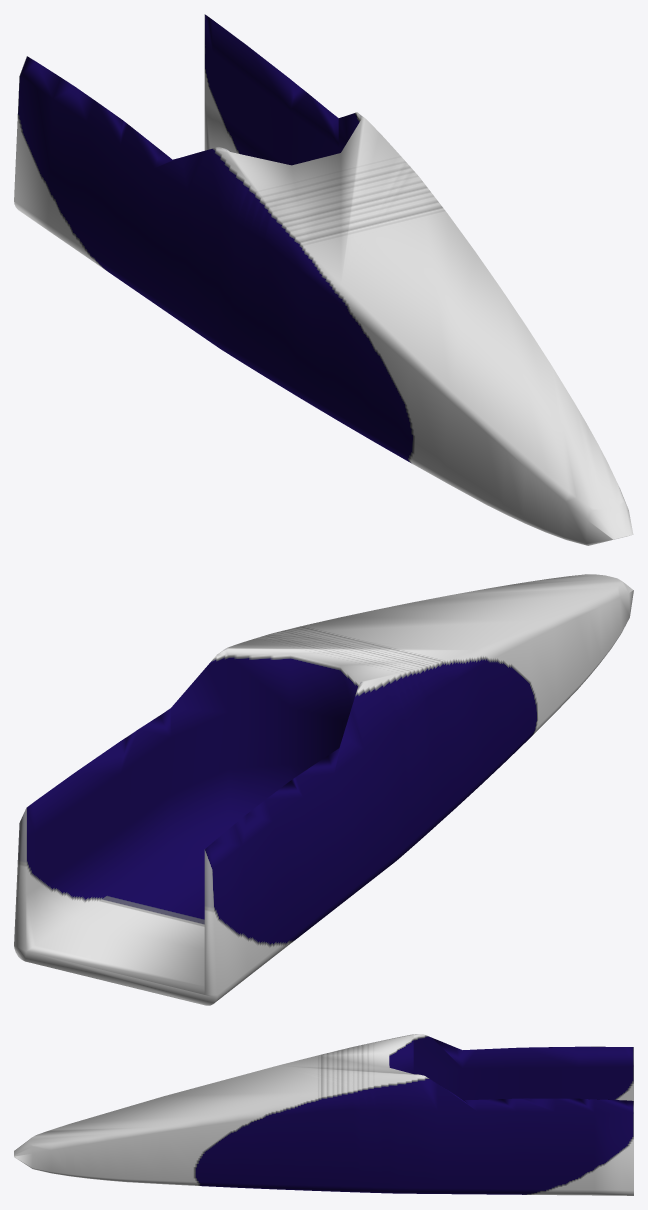
Rendered from my_indy2_1.obj.
3 views of the same model, one above another, from view 1: azimuth 30°, elevation 25°; view 2: azimuth 150°, elevation 25°; view 3: azimuth 270°, elevation 25° (orthographic). The views are drawn at different scales.
Parts seen in each view (by area): view 1: FrontLow; view 2: FrontLow; view 3: FrontLow.
Part boxes in pixels (x1=…): FrontLow: x1=14, y1=14, x2=633, y2=545; FrontLow: x1=14, y1=574, x2=633, y2=1005; FrontLow: x1=14, y1=1034, x2=633, y2=1195.
Size of the model in its own units: 14.03 by 12.41 by 60.71.
1 material, 1 textured.
